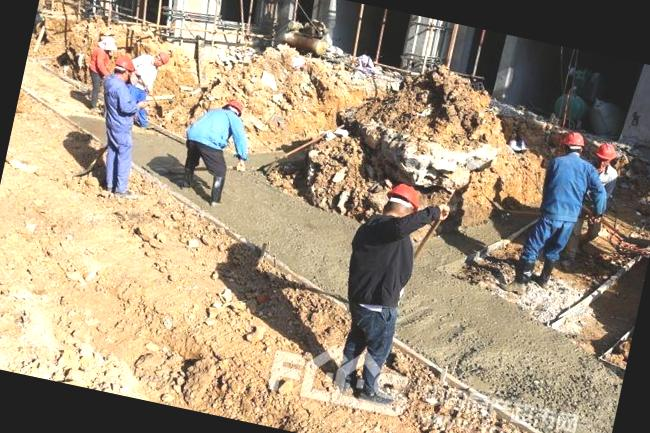person: (324, 179, 439, 401), (514, 125, 602, 294), (80, 50, 166, 195), (170, 89, 255, 208)
